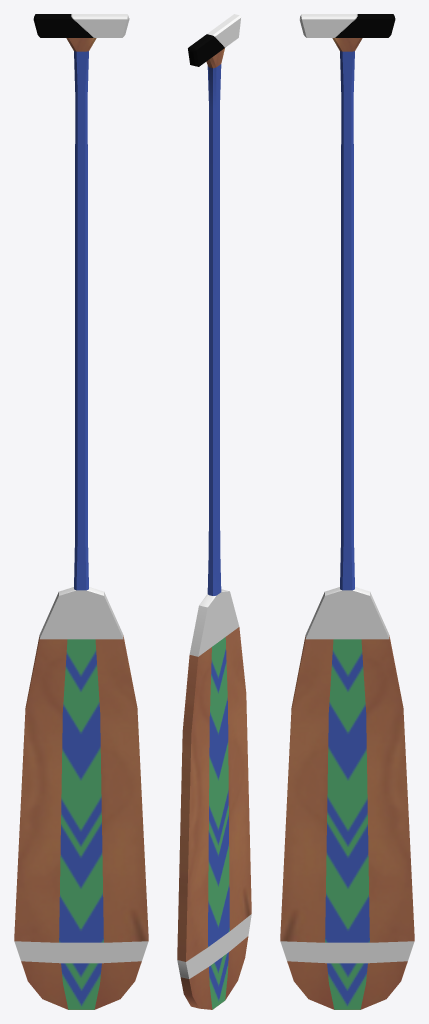
File: oar-4.fbx
The picture shows the model from 3 angles, left to right: view 1: azimuth 90°, elevation 25°; view 2: azimuth 150°, elevation 25°; view 3: azimuth 270°, elevation 25°; orthographic projection.
Parts seen in each view (by area): view 1: pCube5; view 2: pCube5; view 3: pCube5.
Boxes of the visible parts, x1,y1,x2,y2 form: pCube5: (14,14,148,1009); pCube5: (177,14,251,1009); pCube5: (280,14,414,1009).
Size of the model in its own units: 0.4155 by 44.19 by 5.42.
1 material, 1 textured.
